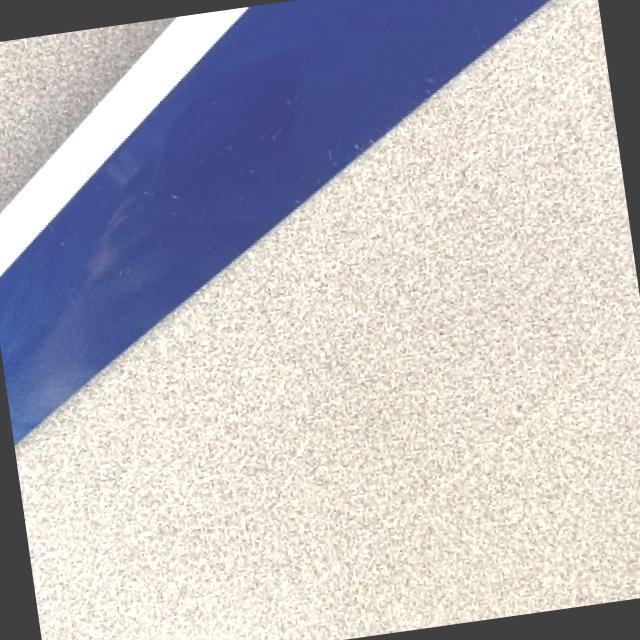healthy: (17, 0, 640, 640), (0, 257, 102, 425)
